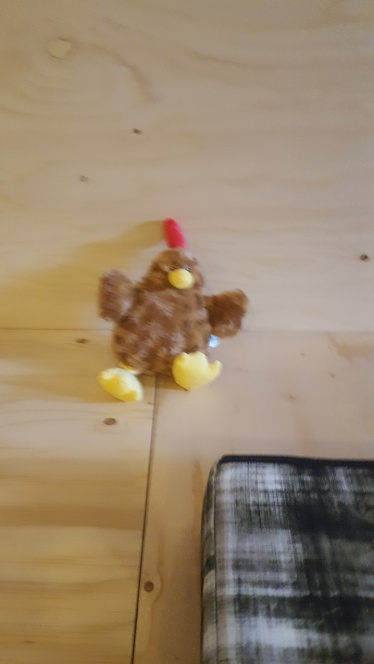chicken_front: (94, 216, 250, 403)
